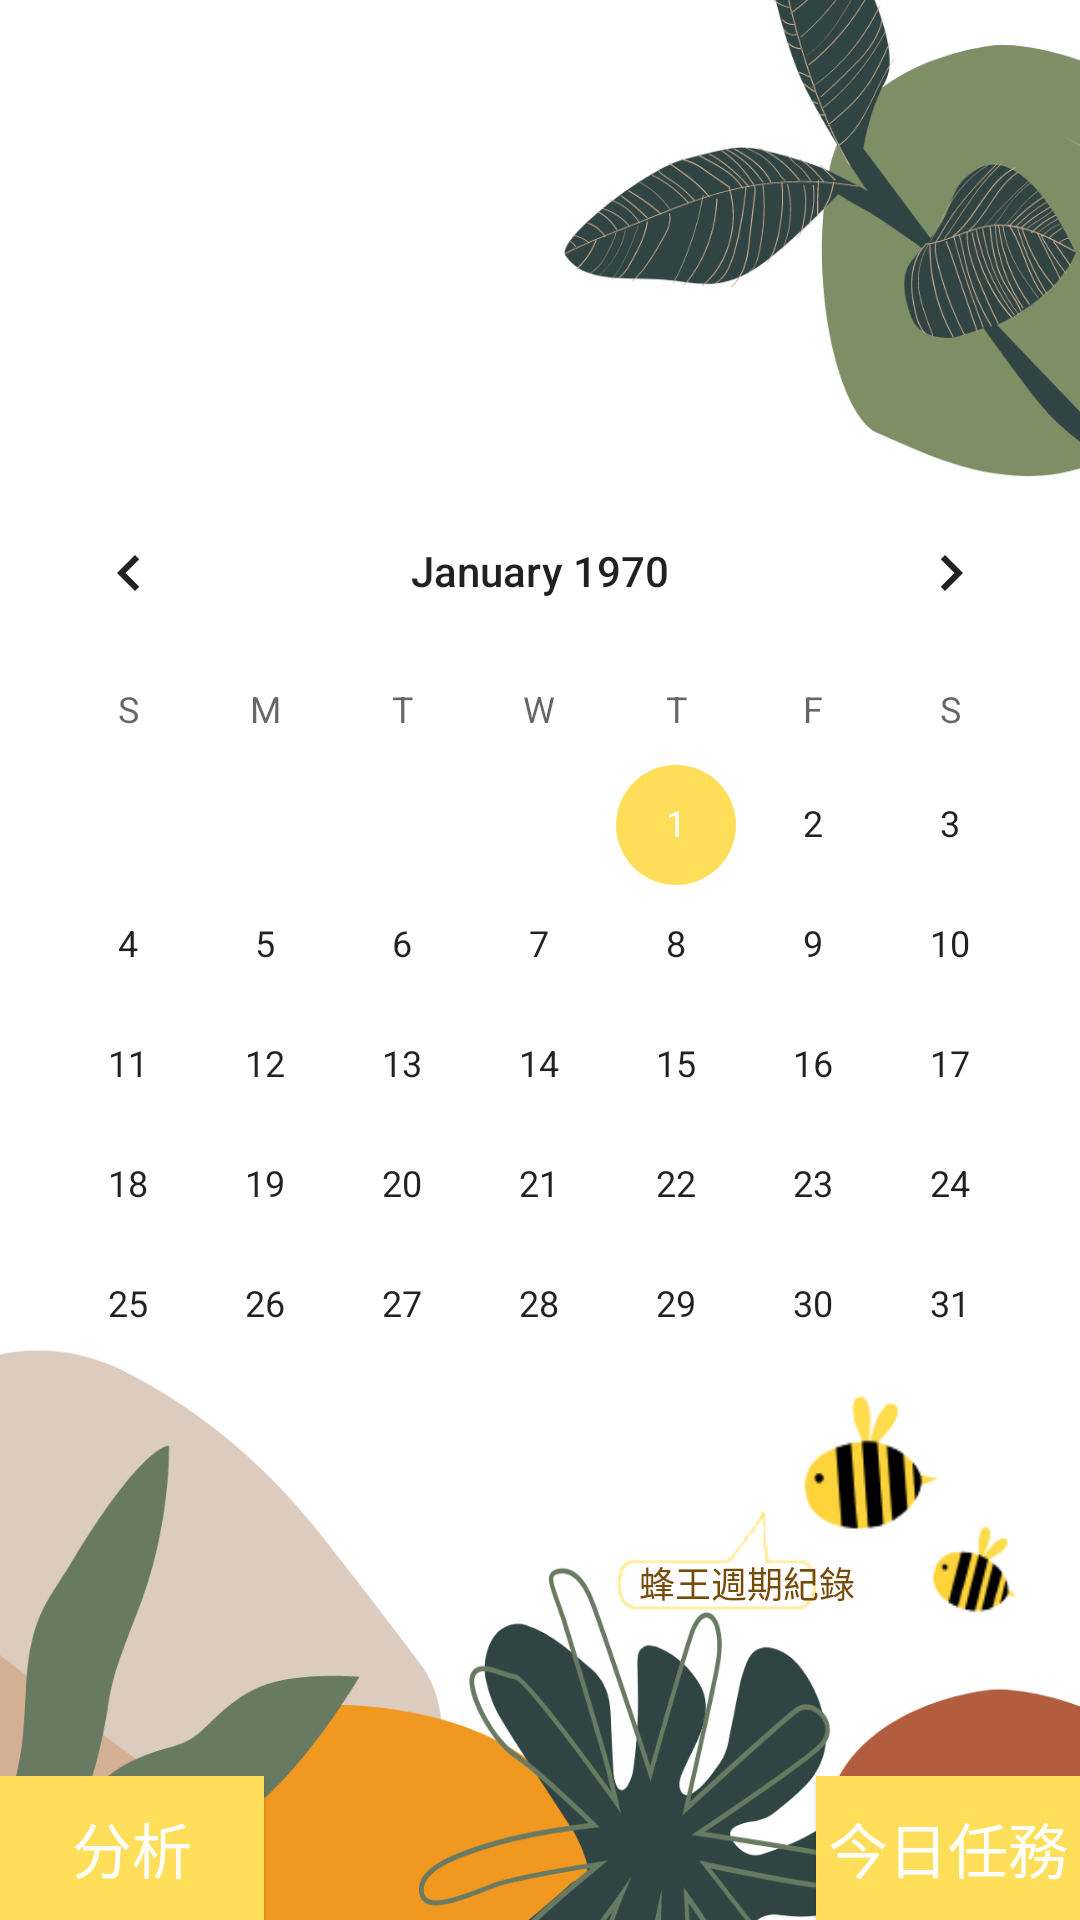

Point at icon controls on the screen. Image size 1080x1920, points as point (x, y).
bee: point (901, 1504)
